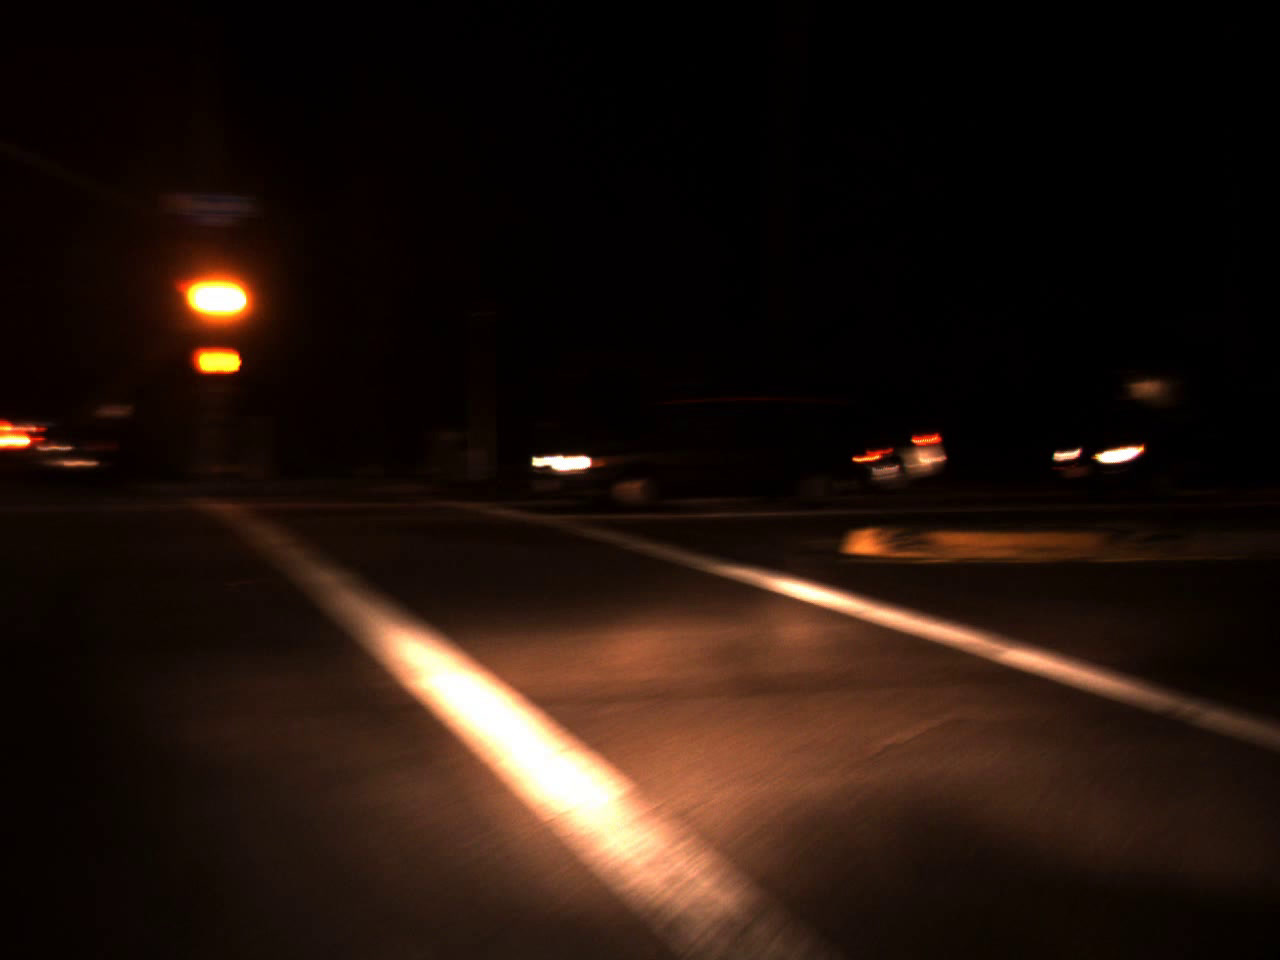warning: (198, 269, 241, 326)
